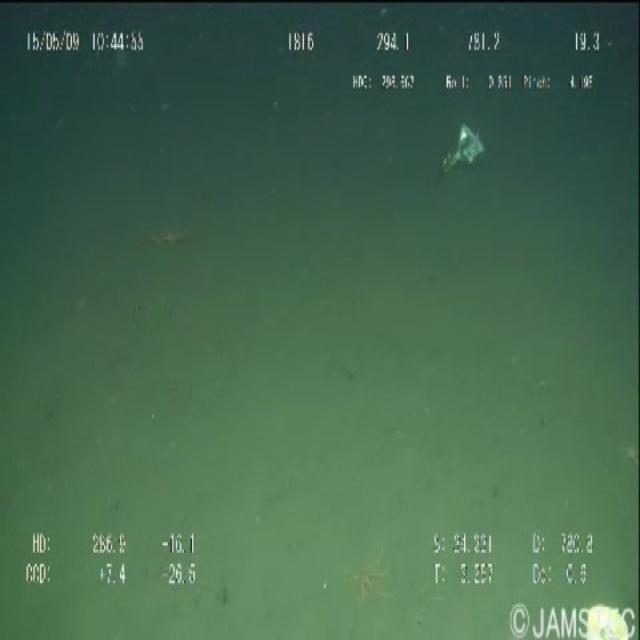Litter: (434, 123, 502, 204)
